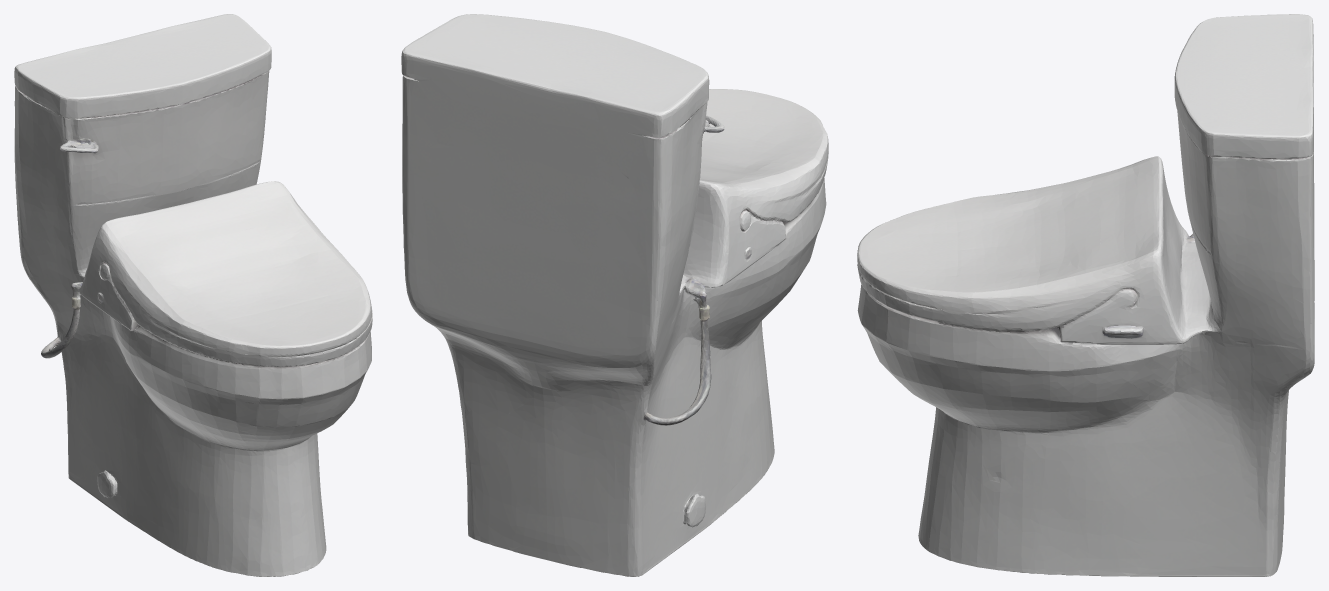
File: toilet_001.glb
The picture shows the model from 3 angles, left to right: view 1: azimuth 30°, elevation 25°; view 2: azimuth 150°, elevation 25°; view 3: azimuth 270°, elevation 25°; orthographic projection. The views are drawn at different scales.
Parts seen in each view (by area): view 1: world; view 2: world; view 3: world.
Boxes of the visible parts, left/top/right/bottom form: world: left=14, top=14, right=372, bottom=576; world: left=401, top=14, right=828, bottom=576; world: left=857, top=14, right=1314, bottom=576.
Bounding box in the file's own units: 0.5728 × 0.9997 × 0.896.
Materials: 1 (1 with a texture image).
